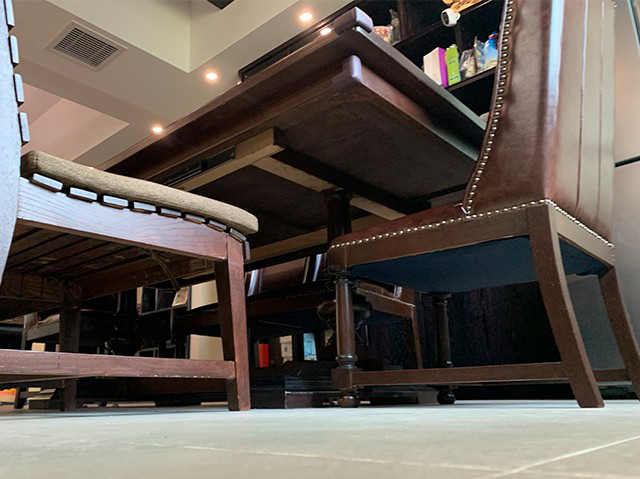stool: (322, 1, 640, 407), (1, 1, 258, 415)
